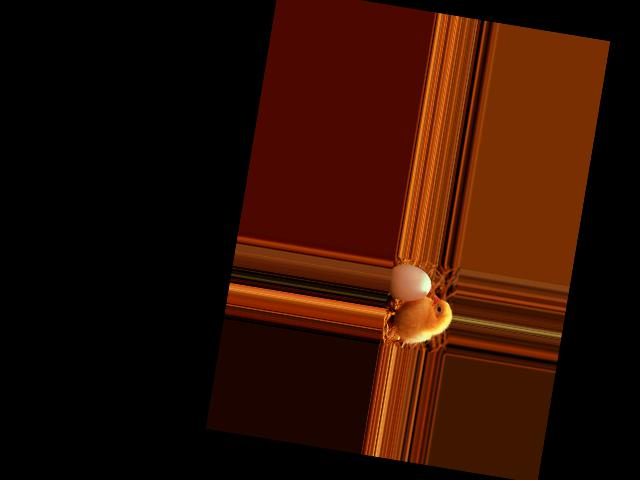egg: (386, 262, 433, 305)
